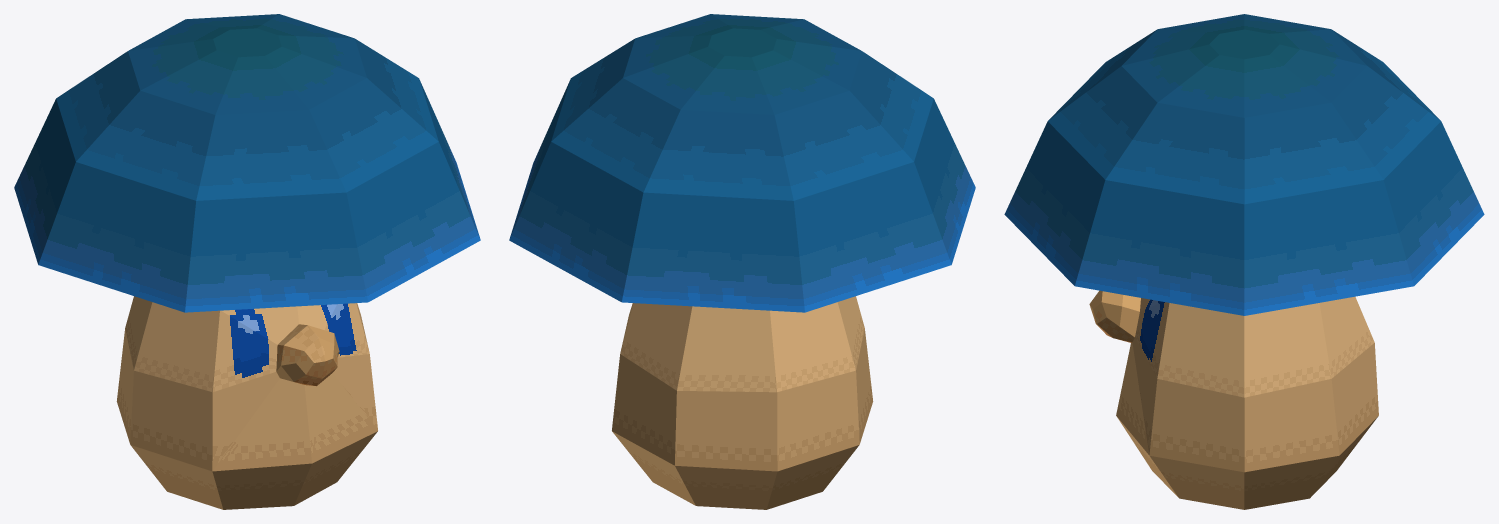
The model's file is Bolet bleu.glb.
3 renders of one model, left to right at view 1: azimuth 30°, elevation 25°; view 2: azimuth 150°, elevation 25°; view 3: azimuth 270°, elevation 25°, orthographic.
Parts seen in each view (by area): view 1: Champi bleu; view 2: Champi bleu; view 3: Champi bleu.
Boxes of the visible parts, x1,y1,x2,y2 form: Champi bleu: [14, 14, 480, 509]; Champi bleu: [509, 14, 975, 509]; Champi bleu: [1004, 14, 1484, 509].
Bounding box in the file's own units: 4.69 × 4.81 × 4.69.
1 material, 1 textured.
